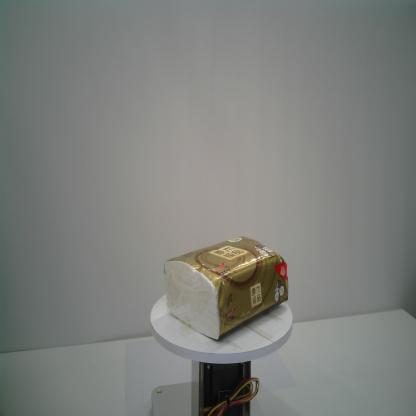Tissue: (164, 236, 288, 342)
